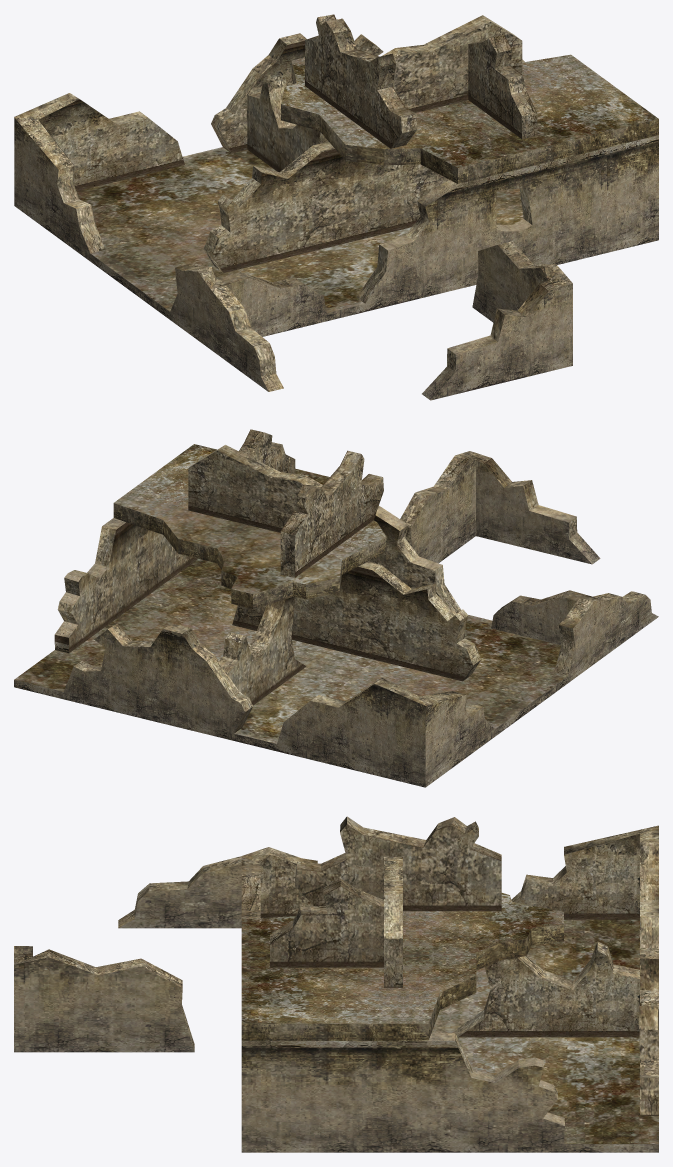
Rendered from Dhut03.glb.
3 renders of one model, top to bottom at view 1: azimuth 30°, elevation 25°; view 2: azimuth 150°, elevation 25°; view 3: azimuth 270°, elevation 25°, orthographic. The views are drawn at different scales.
Parts seen in each view (by area): view 1: _Dhut03; view 2: _Dhut03; view 3: _Dhut03.
Part boxes in pixels (box(x1,y1,x2,y2)): _Dhut03: box(14, 14, 658, 400); _Dhut03: box(14, 429, 658, 787); _Dhut03: box(14, 816, 658, 1152).
Size of the model in its own units: 14.51 by 6.28 by 17.
2 materials, 2 textured.
